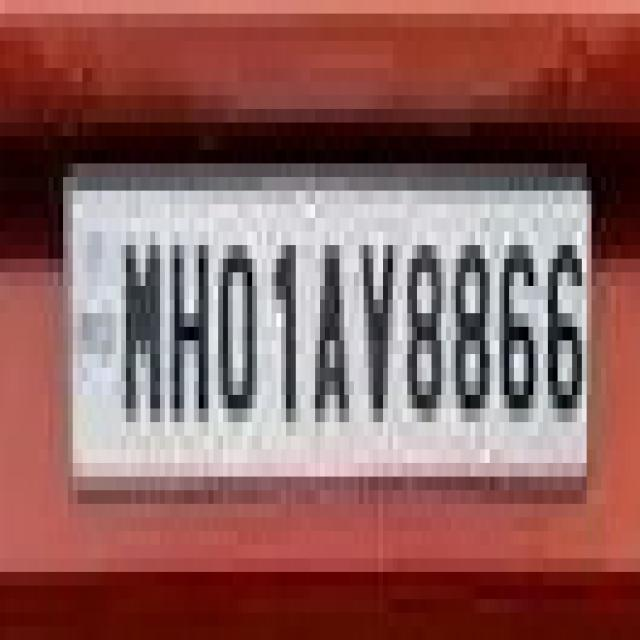0: (214, 217, 260, 426)
1: (269, 219, 305, 441)
6: (540, 219, 587, 441), (498, 212, 542, 431)
8: (452, 232, 492, 448), (403, 230, 444, 428)
A: (313, 219, 347, 441)
H: (168, 226, 212, 428)
M: (115, 214, 168, 414)
V: (360, 221, 399, 438)
